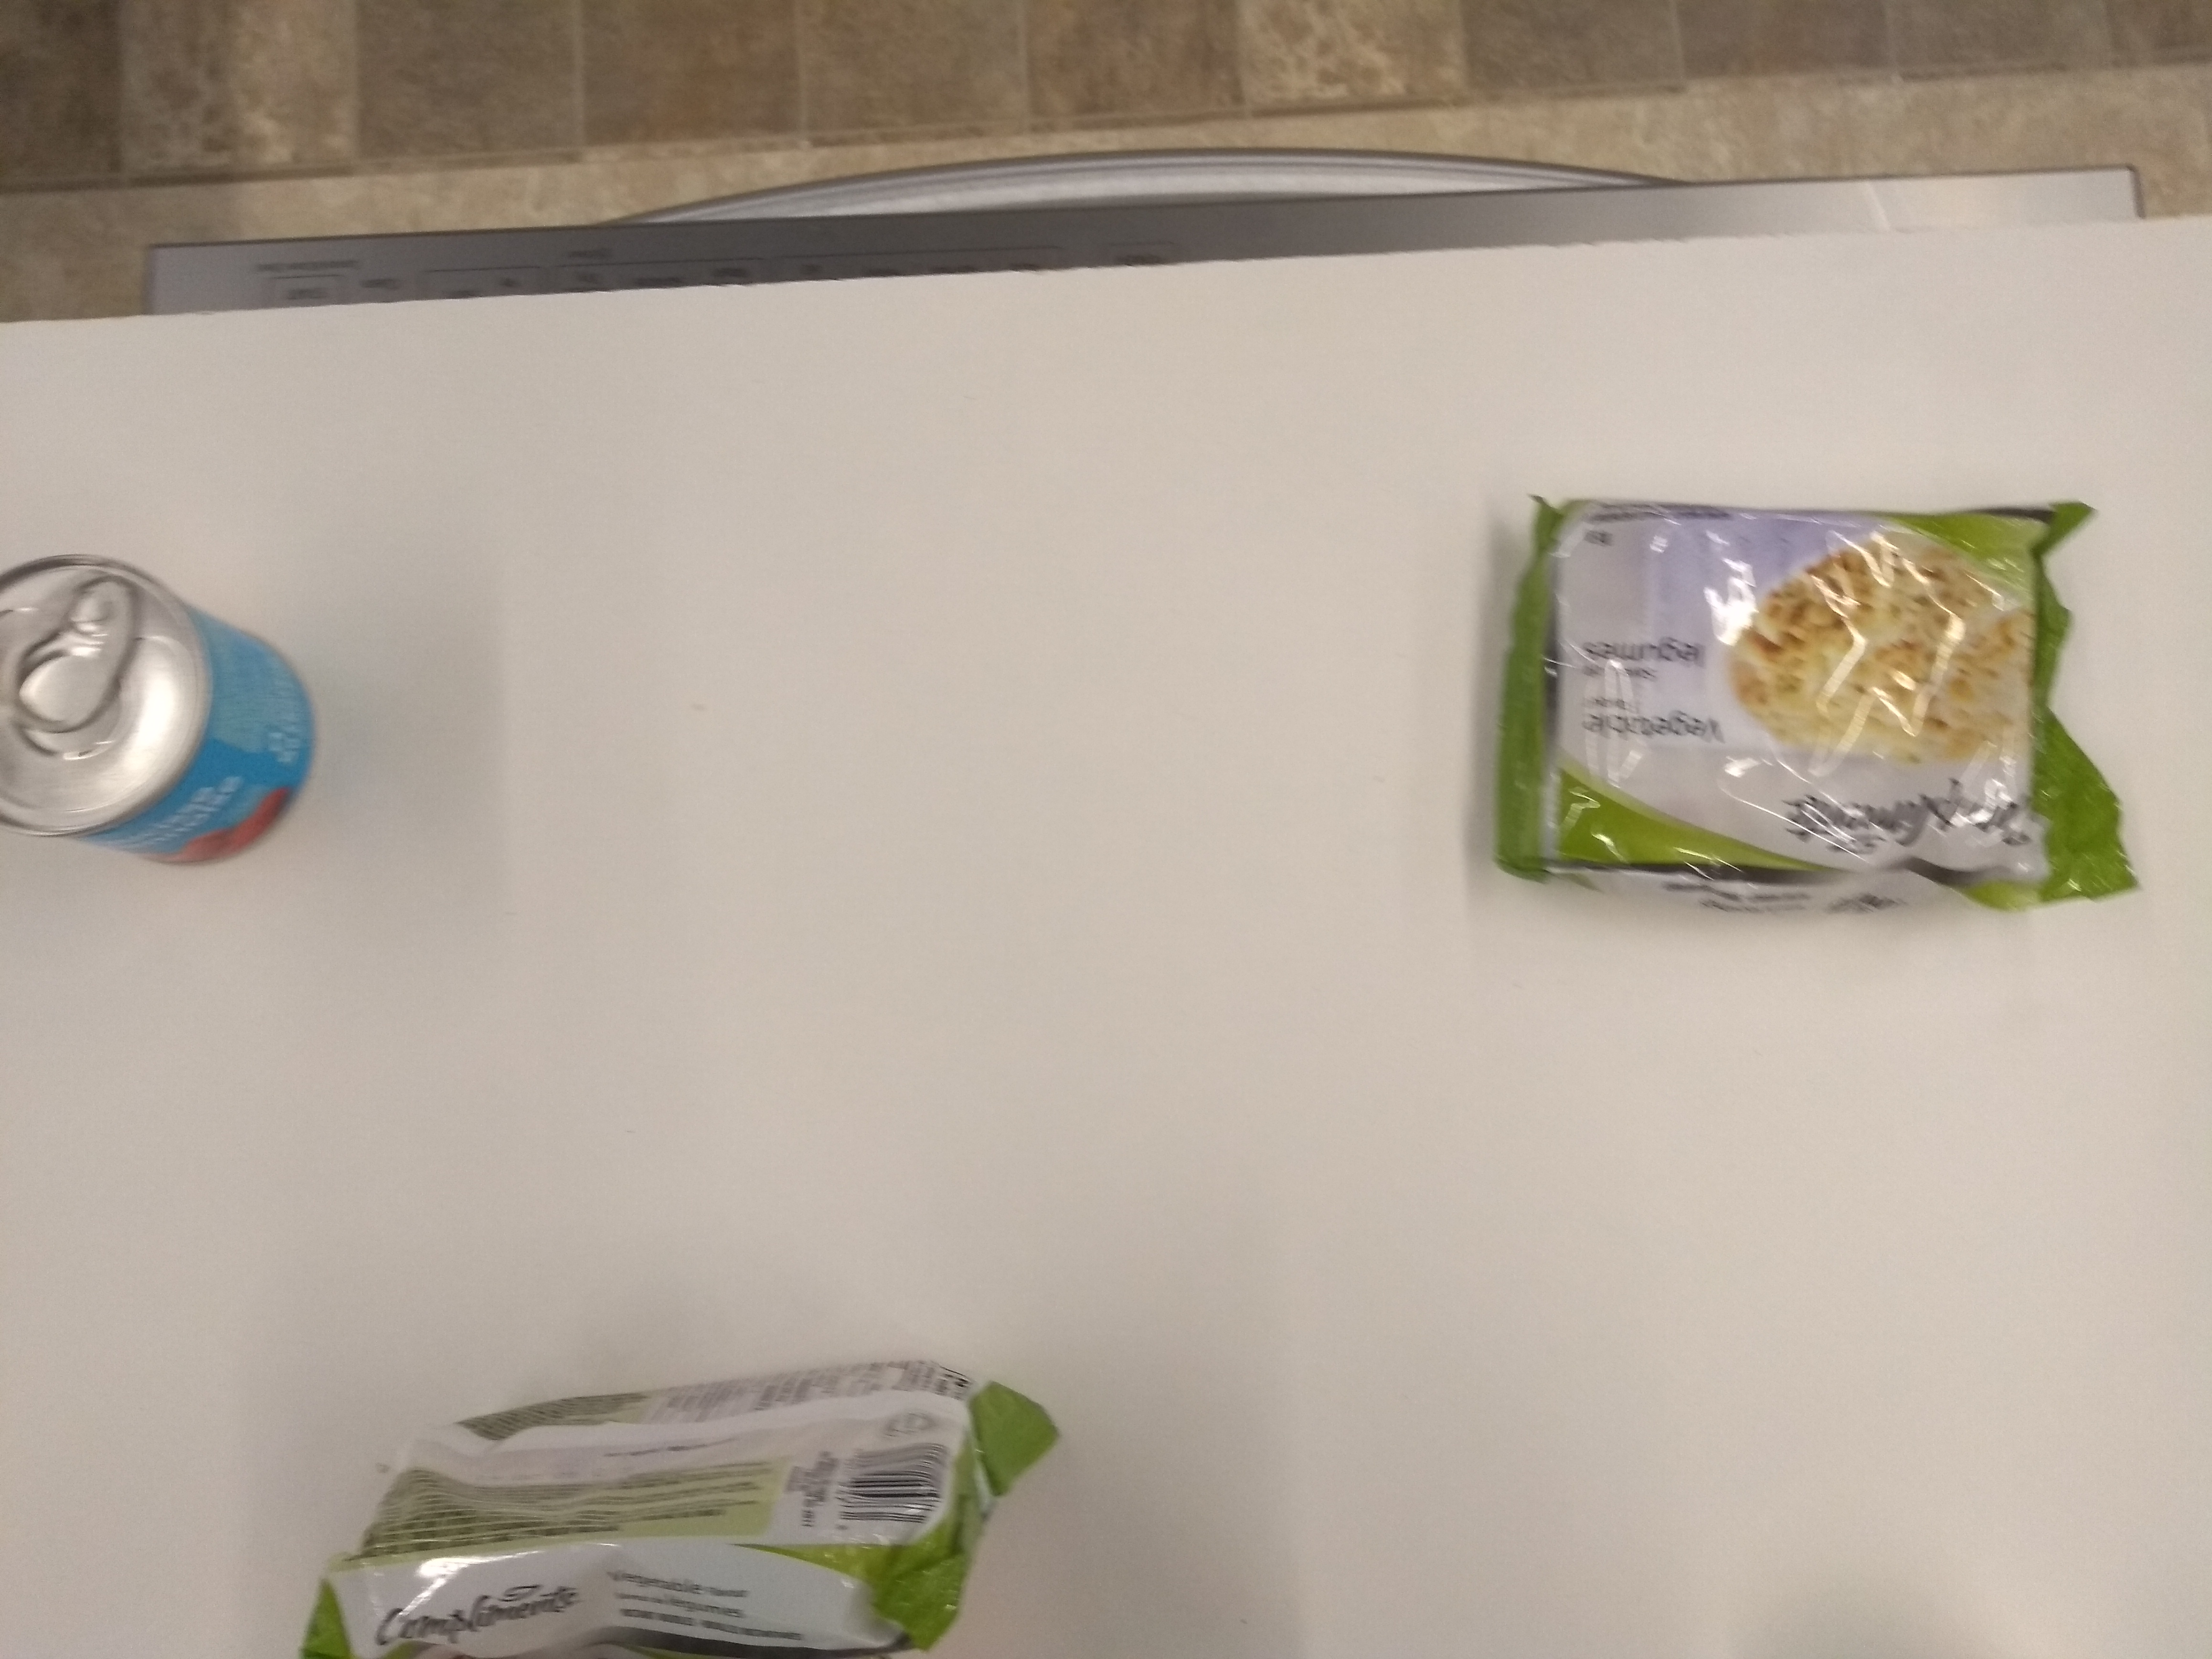noodles: (1482, 476, 2148, 924)
